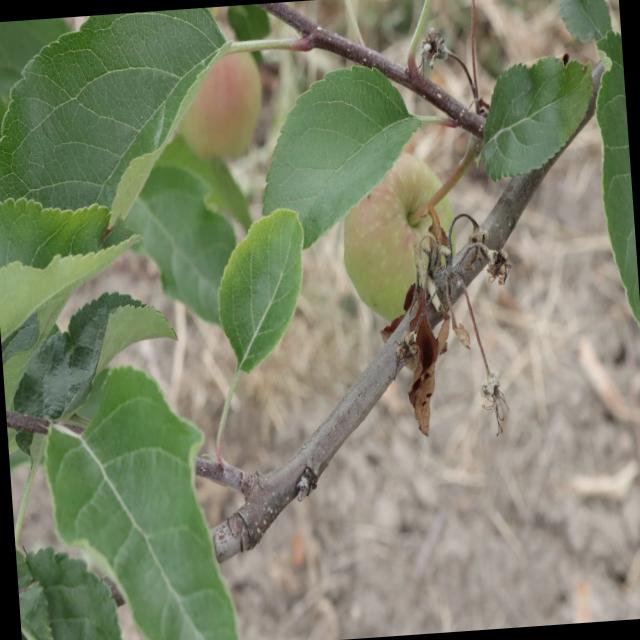-FireBlight-: (390, 225, 520, 440)
